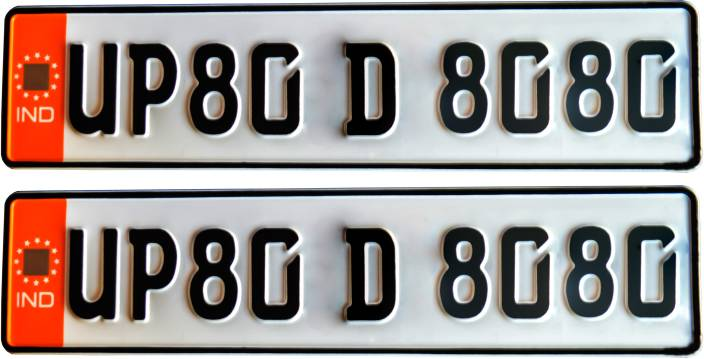number_plate: (5, 186, 700, 356), (5, 3, 701, 170)
